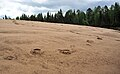human_foot_print: (3, 53, 15, 62), (28, 46, 40, 54), (59, 48, 70, 56), (84, 38, 94, 46), (95, 33, 102, 43)
